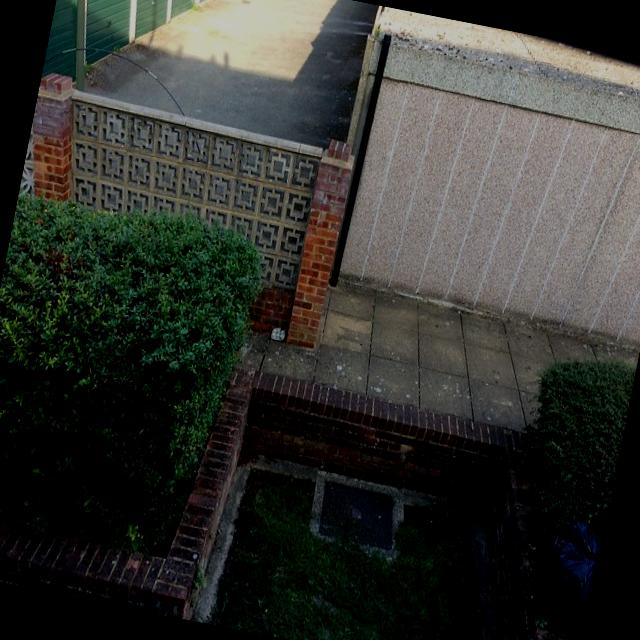Trash: (527, 504, 608, 640), (268, 322, 290, 347)
